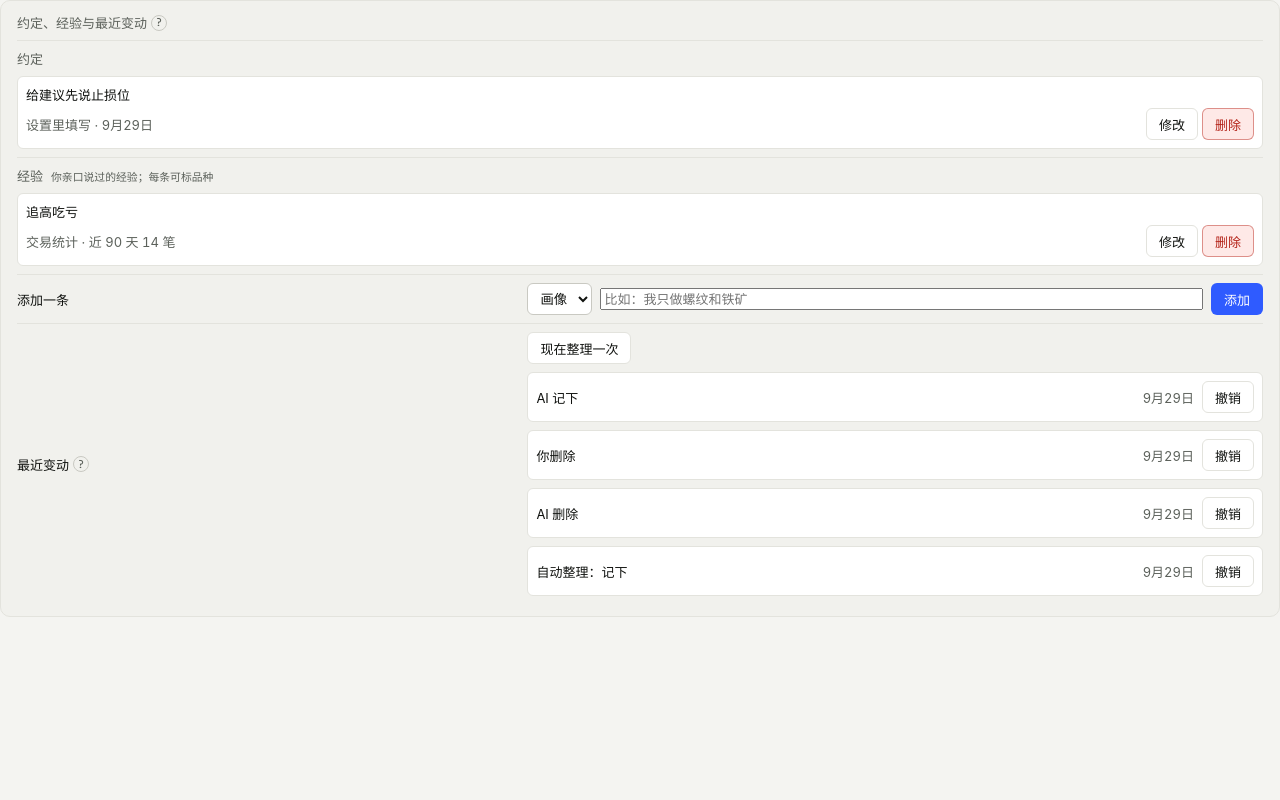
Test: 整理 says which part did not finish instead of 没有新东西要记
Expected: the text "给建议先说止损位" is shown, [26,87,130,103]
Click the button "现在整理一次": (579,348) [527,332,631,364]
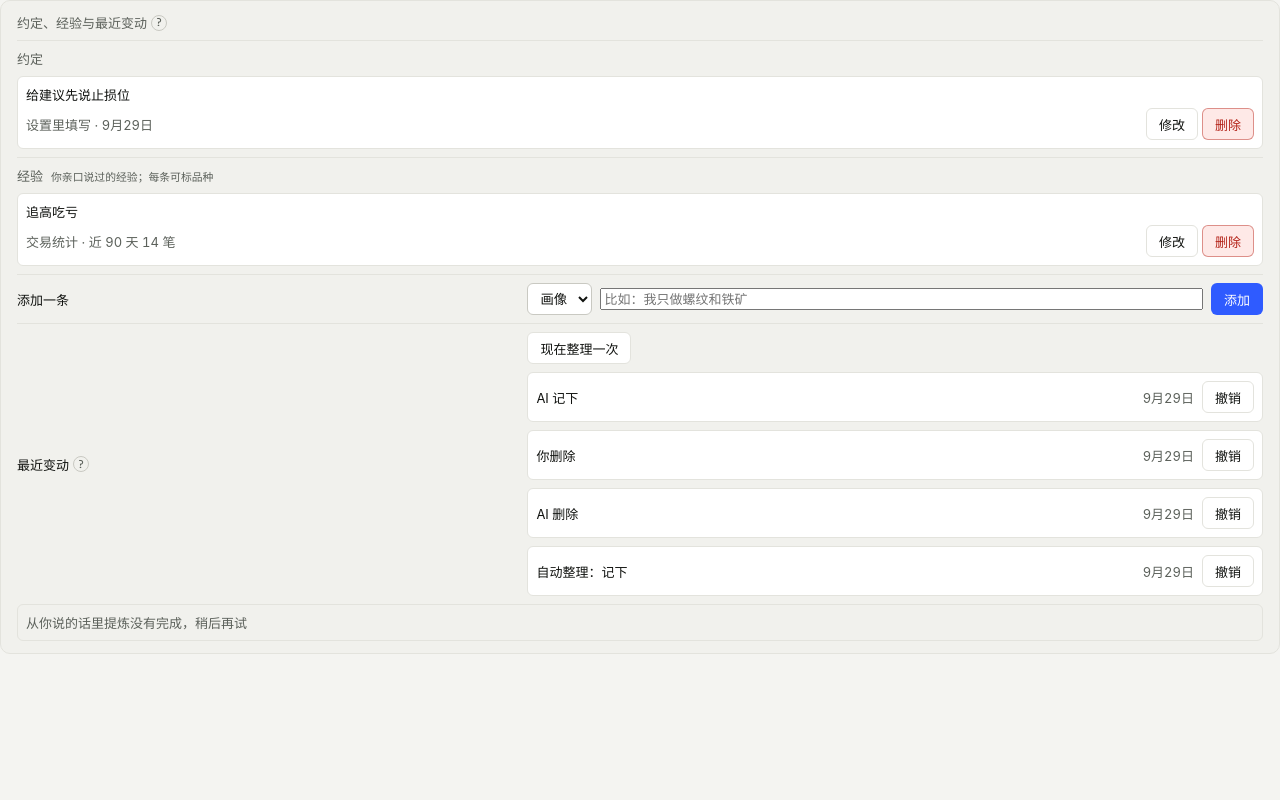
Expected: the text "没有新东西要记" is not shown
Expected: the message reads "从你说的话里提炼没有完成，稍后再试", [26,615,247,631]
Click the button "现在整理一次": (579,348) [527,332,631,364]
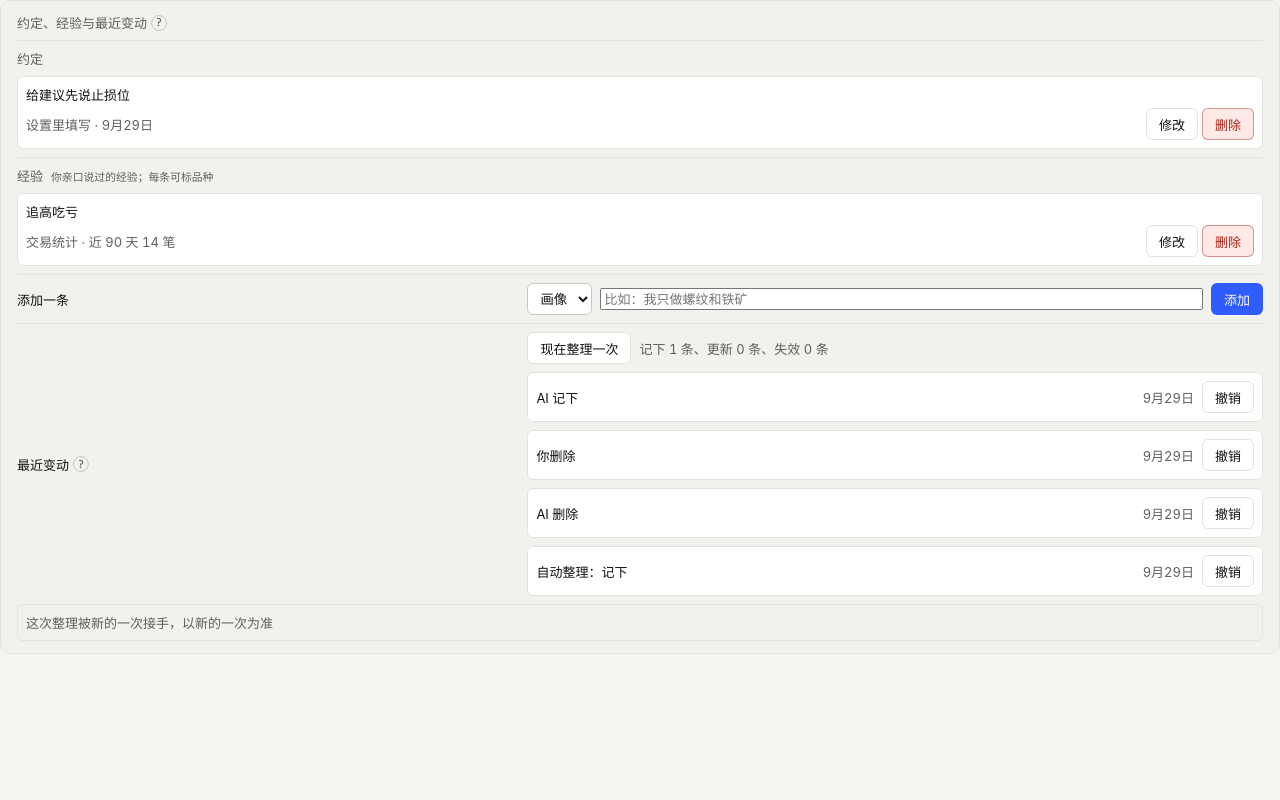
Expected: the text "记下 1 条、更新 0 条、失效 0 条" is shown, [639,338,829,358]
Expected: the message shows "这次整理被新的一次接手", [26,615,273,631]
Click the button "现在整理一次": (579,348) [527,332,631,364]
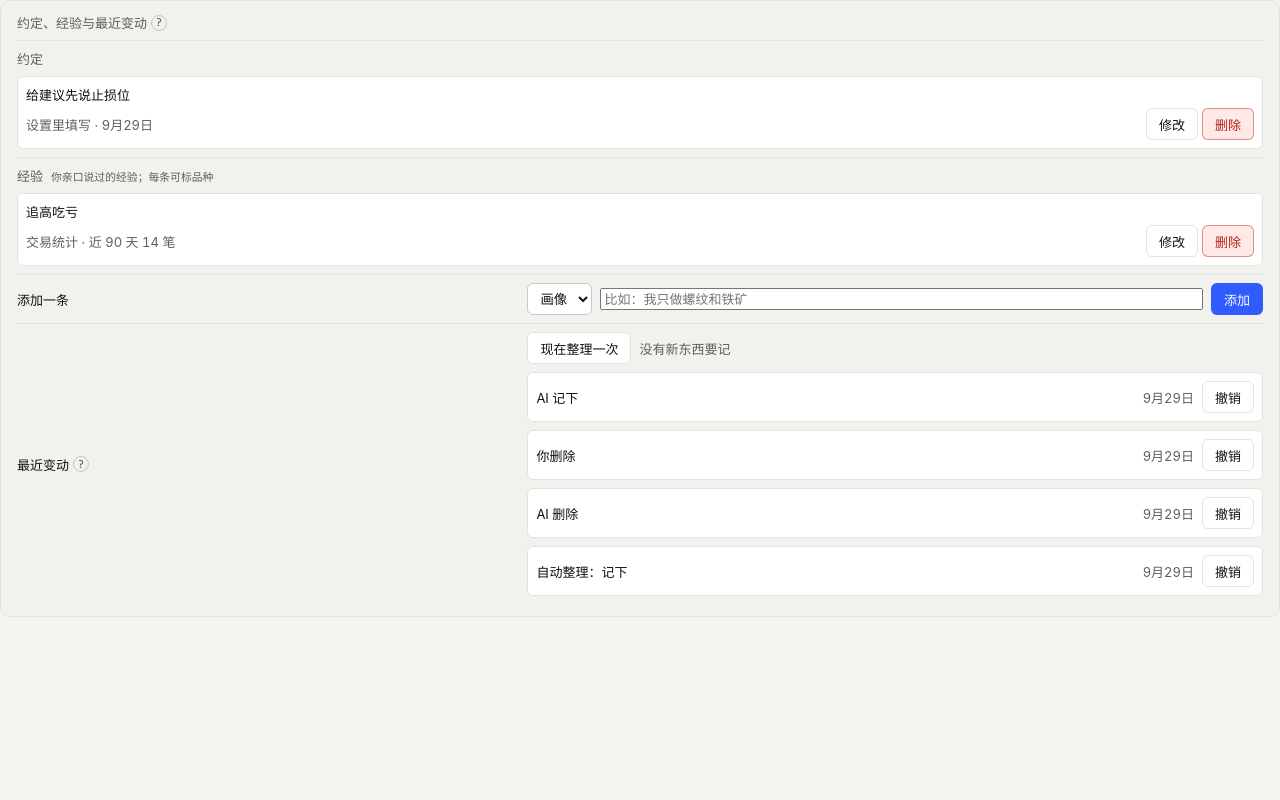
Expected: the text "没有新东西要记" is shown, [639,338,730,358]
Expected: the message "这次整理被新的一次接手，以新的一次为准" is gone
